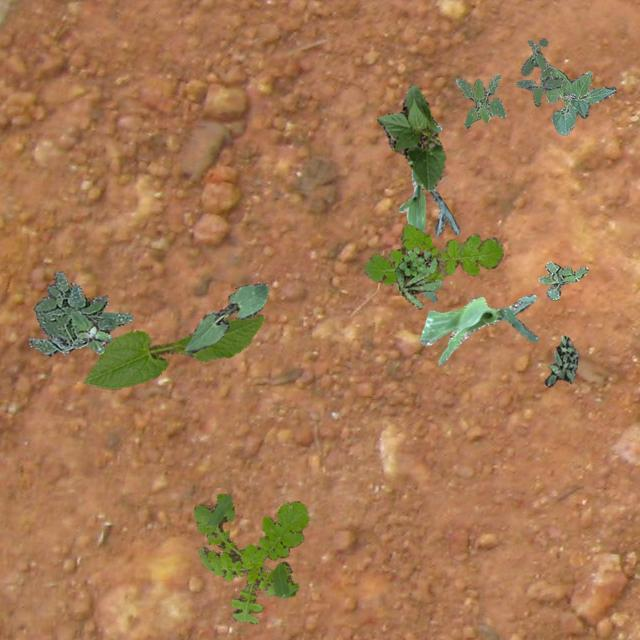crop: (84, 314, 264, 388), (398, 124, 458, 300), (418, 294, 536, 364), (374, 84, 444, 190), (185, 282, 266, 352), (544, 64, 616, 134)
weed: (192, 492, 308, 622), (28, 270, 132, 354), (362, 222, 502, 284), (516, 38, 566, 106), (394, 246, 441, 308), (456, 74, 504, 128), (68, 310, 116, 352), (536, 260, 586, 300), (544, 334, 578, 386)
